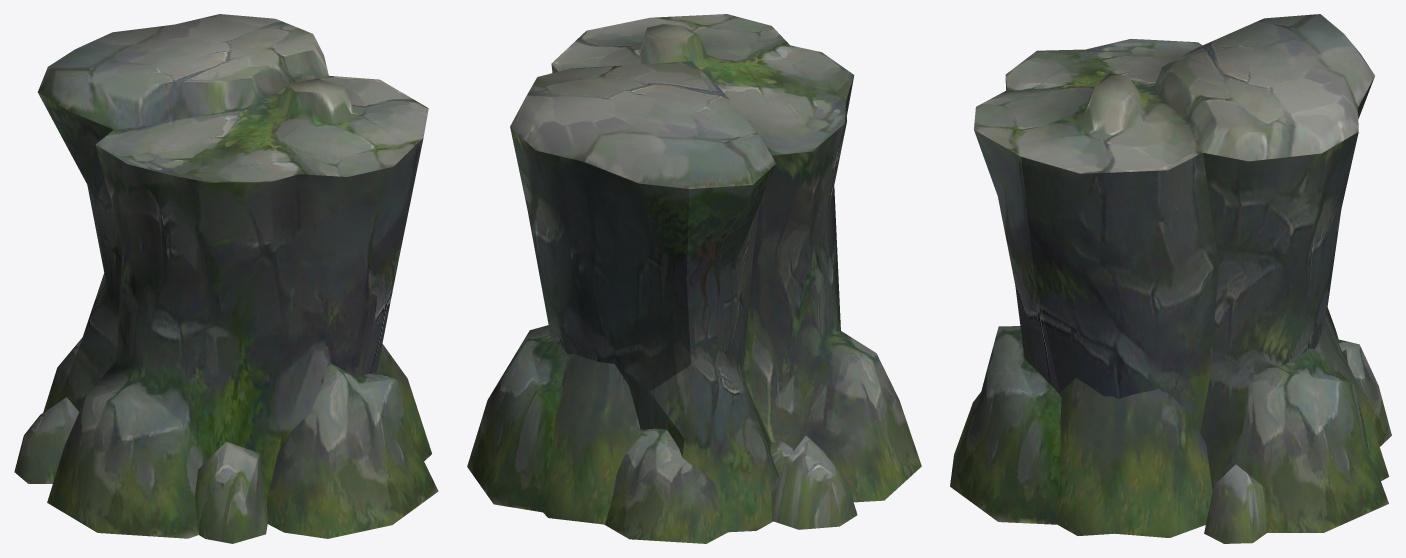
File: Yegesl_st02.FBX
3 renders of one model, left to right at view 1: azimuth 30°, elevation 25°; view 2: azimuth 150°, elevation 25°; view 3: azimuth 270°, elevation 25°, orthographic. The views are drawn at different scales.
Visible parts, largest first — view 1: Yegesl_st02; view 2: Yegesl_st02; view 3: Yegesl_st02.
Part boxes in pixels (x1,y1,x2,y2): Yegesl_st02: [14, 14, 438, 543]; Yegesl_st02: [467, 14, 921, 543]; Yegesl_st02: [950, 14, 1391, 543].
Bounding box in the file's own units: 42.5 × 43.4 × 43.75.
